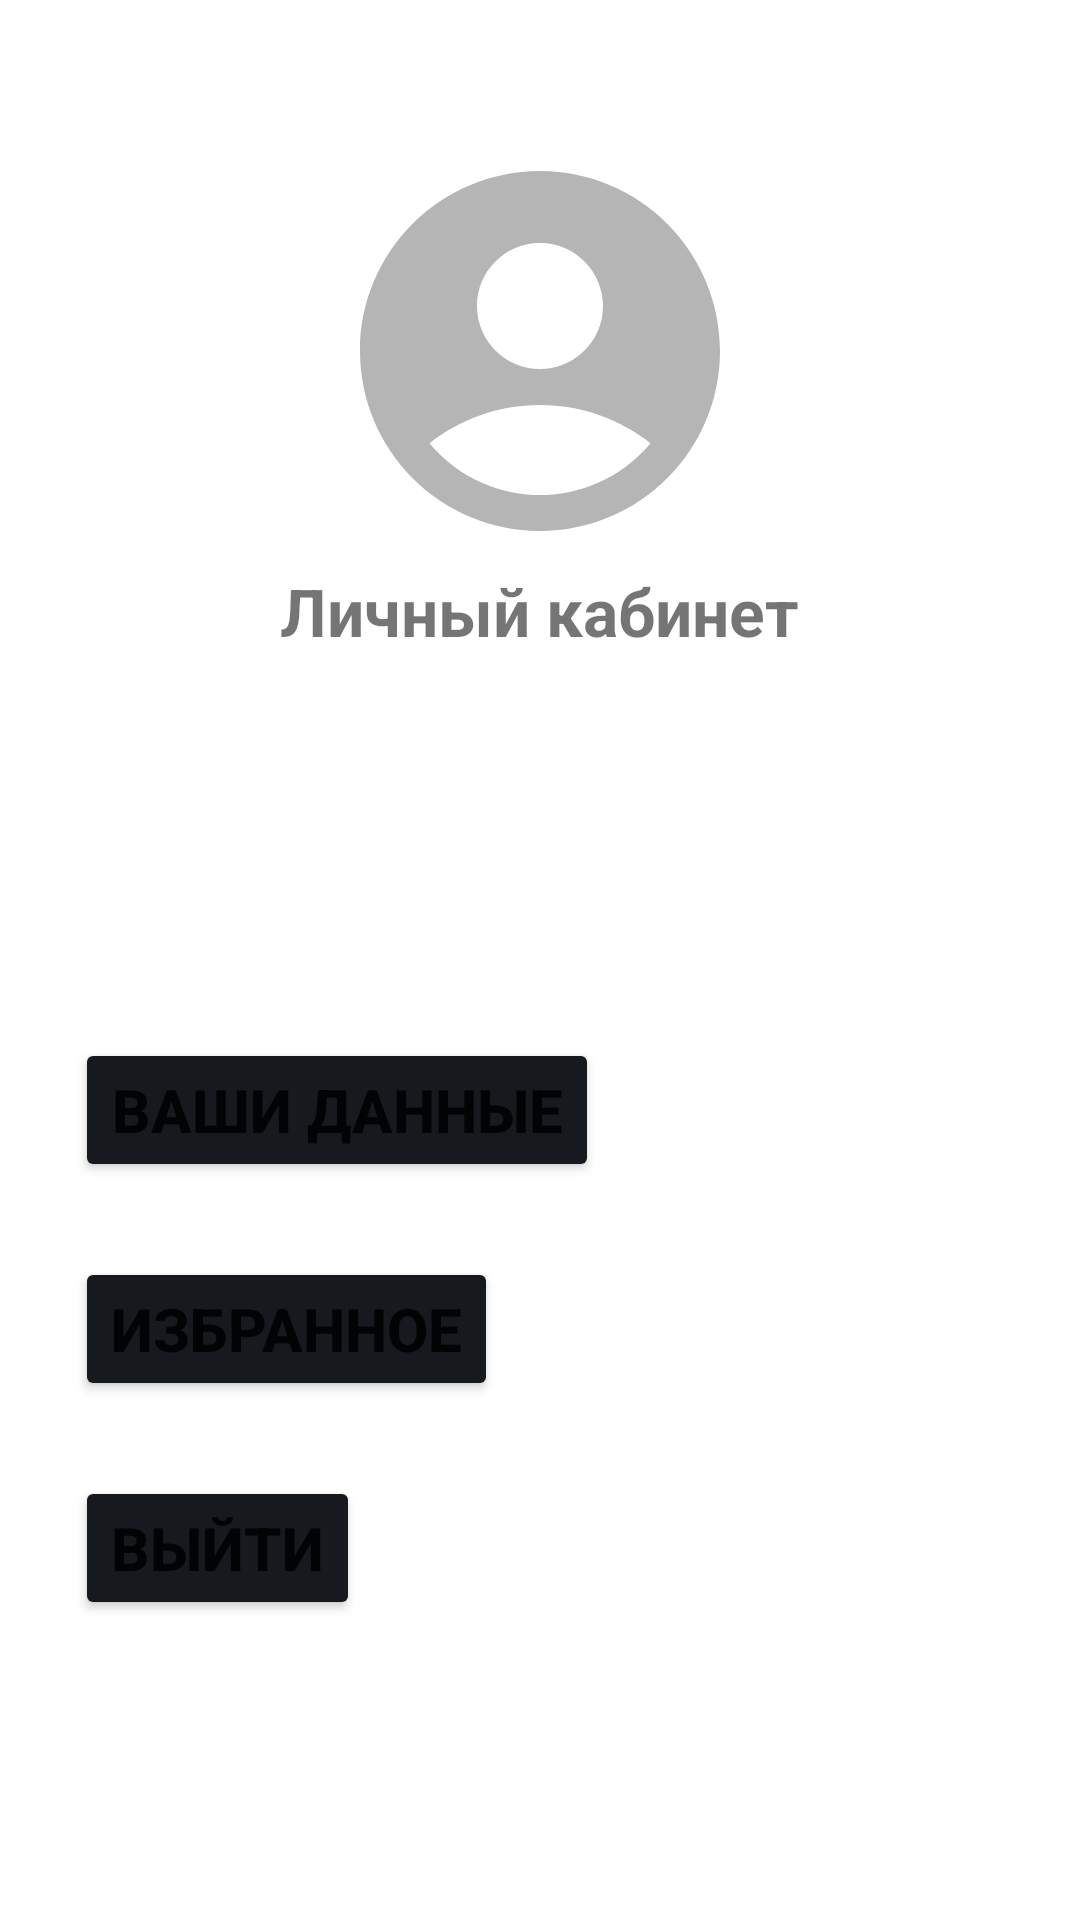

Named icons in this screenshot (1080w x 1920h) and their centers, (x=x, y=y):
account circle: (x=540, y=351)
